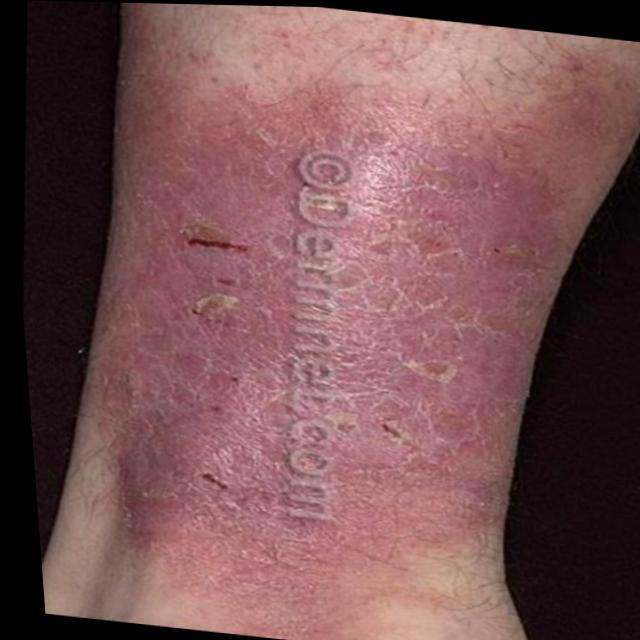Eczema: (61, 41, 559, 597)
